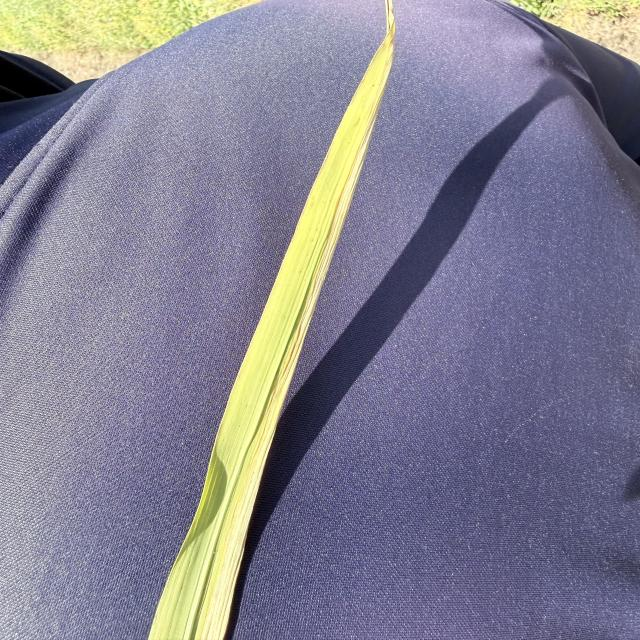Chay bia la: (202, 0, 397, 640)
